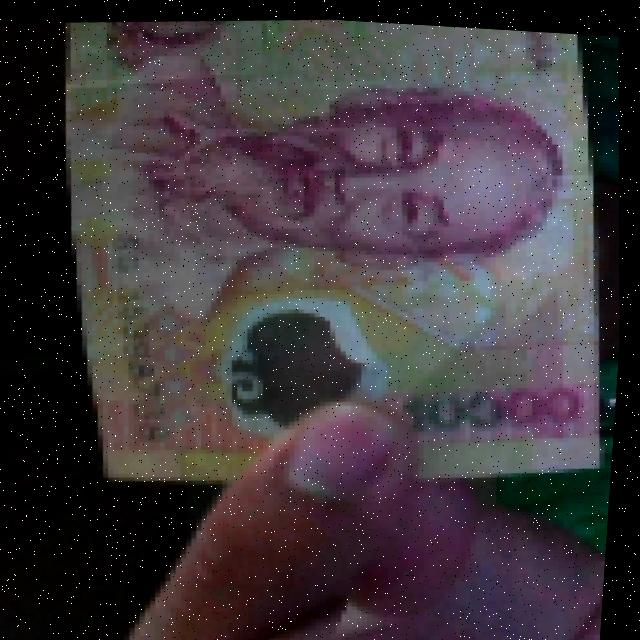10 000 VND: (29, 3, 634, 517)
